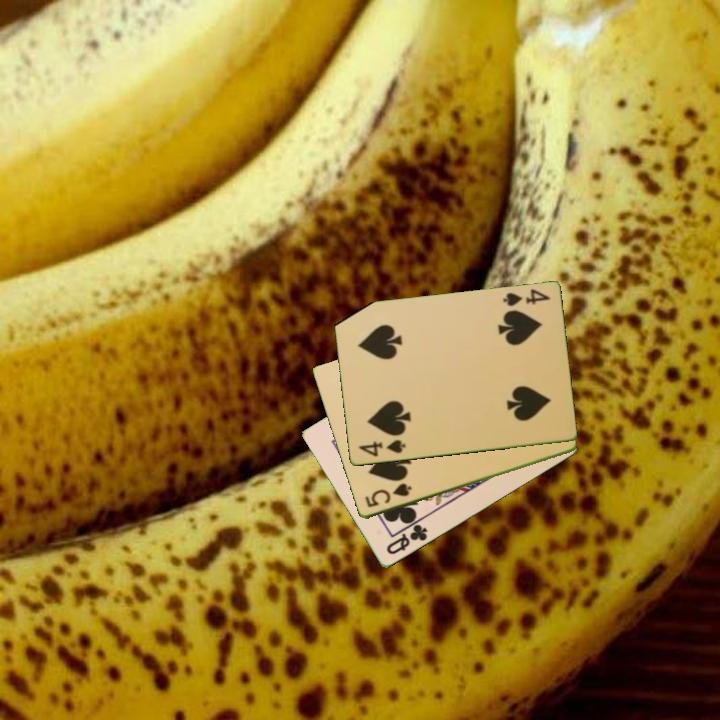4s: (499, 286, 553, 310), (355, 437, 408, 460)
5s: (361, 480, 414, 511)
Qc: (382, 521, 430, 558)
